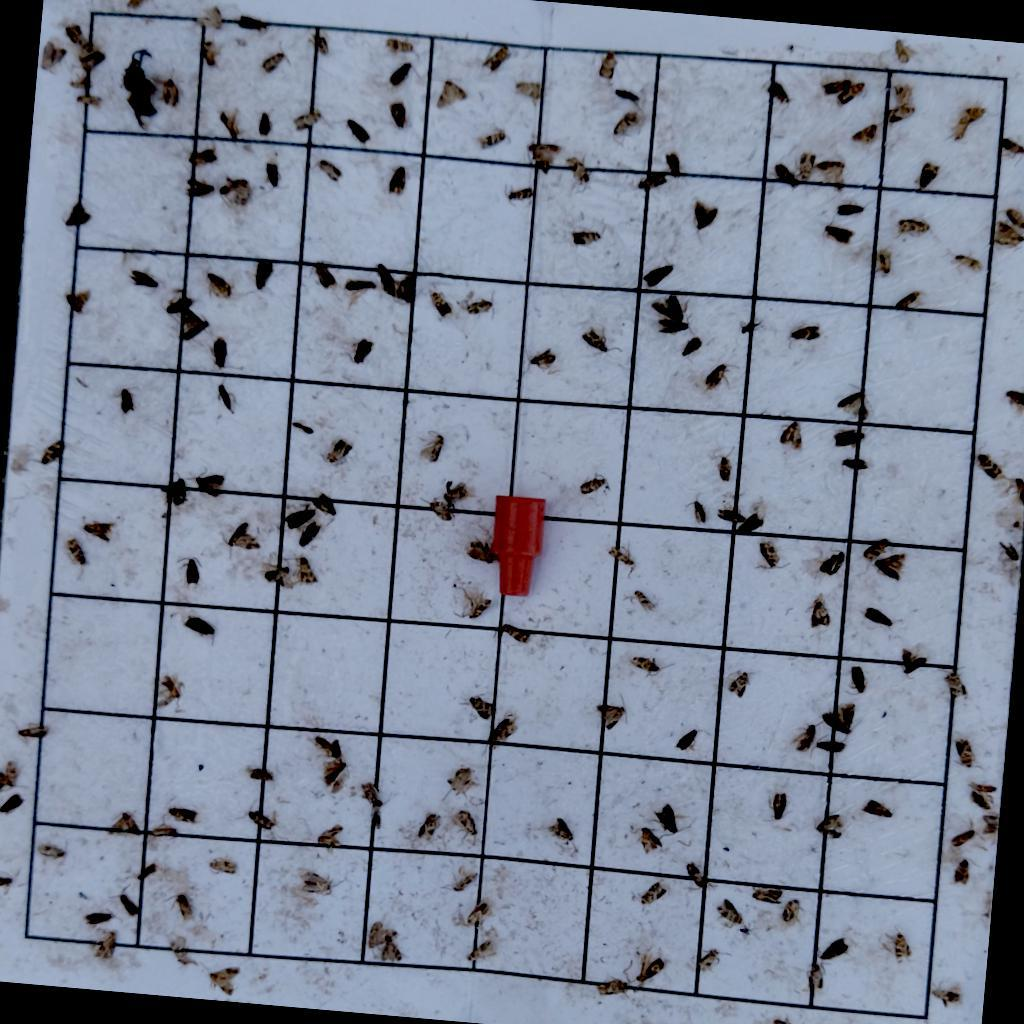grape_moth: (812, 692, 859, 741), (479, 705, 525, 755), (620, 948, 667, 994), (214, 174, 259, 219), (218, 520, 263, 562), (944, 100, 986, 144), (828, 383, 875, 419), (205, 957, 246, 998), (589, 691, 629, 733), (878, 919, 915, 963), (242, 799, 288, 834), (354, 774, 394, 814), (520, 137, 564, 173), (910, 156, 945, 200), (159, 794, 204, 828), (164, 929, 203, 968), (87, 923, 126, 962), (320, 756, 356, 798), (783, 315, 823, 352), (14, 715, 58, 748), (311, 731, 355, 764), (927, 971, 966, 1008), (438, 762, 474, 802), (707, 441, 739, 485), (189, 465, 228, 501), (212, 104, 247, 144), (622, 651, 672, 679), (695, 359, 735, 394), (380, 158, 411, 203), (37, 38, 71, 79), (421, 285, 456, 324), (573, 322, 612, 357), (256, 559, 295, 594), (312, 818, 351, 853), (156, 669, 187, 713), (451, 588, 491, 622), (107, 806, 147, 840), (607, 106, 643, 143), (461, 285, 497, 321), (602, 542, 637, 579), (73, 38, 107, 76), (259, 41, 293, 79), (962, 778, 1001, 811), (80, 516, 120, 548), (62, 287, 96, 324), (561, 155, 595, 192), (477, 43, 515, 76), (969, 449, 1009, 480), (712, 496, 751, 527), (203, 850, 243, 880), (433, 77, 468, 111), (813, 156, 848, 190), (306, 258, 341, 292), (157, 69, 186, 110), (35, 831, 72, 863), (628, 824, 666, 855), (461, 692, 499, 723), (817, 220, 859, 248), (892, 216, 931, 246), (564, 222, 603, 252), (288, 101, 322, 135), (38, 438, 72, 472), (203, 271, 238, 304), (988, 219, 1023, 252), (365, 916, 401, 948), (754, 539, 791, 570), (804, 589, 833, 628), (474, 121, 508, 154), (833, 77, 867, 109), (945, 819, 979, 851), (299, 868, 337, 896), (881, 99, 919, 127), (60, 19, 91, 53), (290, 553, 321, 587), (635, 877, 669, 908), (178, 176, 217, 203), (628, 168, 667, 195), (776, 419, 806, 454), (866, 243, 895, 279), (495, 618, 533, 645), (192, 36, 223, 69), (847, 118, 878, 151), (64, 538, 94, 572), (320, 437, 354, 467), (465, 933, 499, 963), (461, 894, 491, 928), (712, 895, 746, 925), (873, 550, 907, 580), (187, 143, 222, 172), (246, 757, 281, 786), (145, 819, 185, 844), (809, 805, 841, 836), (416, 431, 446, 464), (941, 666, 971, 699), (314, 157, 347, 187), (508, 75, 546, 101), (425, 495, 459, 524), (168, 889, 197, 922), (526, 344, 560, 372), (850, 792, 891, 815), (448, 861, 478, 892), (500, 181, 532, 210), (1, 757, 29, 790), (682, 856, 709, 890), (791, 149, 816, 185), (197, 2, 226, 33), (782, 720, 811, 751), (718, 666, 746, 698), (815, 72, 847, 100), (69, 89, 106, 113), (437, 477, 471, 503), (416, 809, 442, 842), (949, 250, 983, 275), (546, 814, 575, 843), (892, 284, 921, 313), (114, 383, 138, 418), (379, 933, 407, 963), (685, 492, 710, 525), (951, 734, 976, 767), (803, 956, 828, 989), (377, 35, 416, 56), (452, 807, 481, 835), (948, 855, 973, 887), (592, 49, 616, 82), (578, 470, 608, 496), (592, 973, 625, 996), (996, 134, 1023, 162), (863, 536, 891, 561), (696, 942, 720, 971), (777, 894, 801, 923), (882, 36, 906, 65), (749, 883, 783, 903), (887, 81, 914, 106), (1001, 386, 1023, 416), (1002, 203, 1023, 232), (629, 588, 653, 613)
